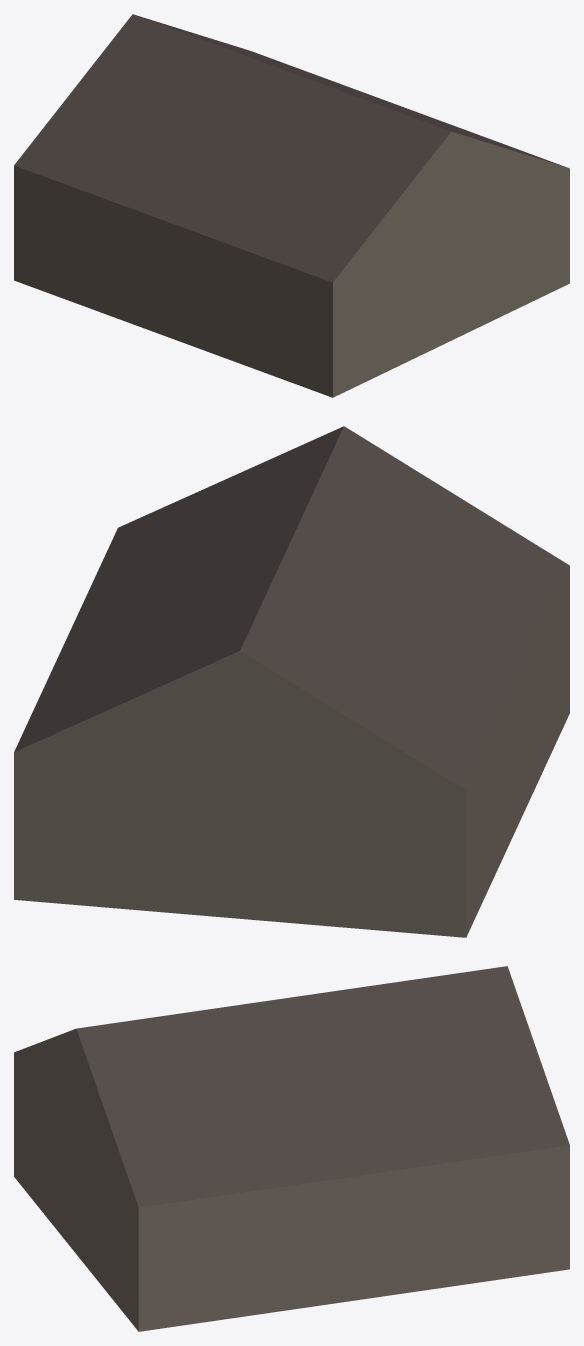
The picture shows the model from 3 angles, top to bottom: view 1: azimuth 30°, elevation 25°; view 2: azimuth 150°, elevation 25°; view 3: azimuth 270°, elevation 25°; orthographic projection. The views are drawn at different scales.
Visible parts, largest first — view 1: HP-w859457319; view 2: HP-w859457319; view 3: HP-w859457319.
Part boxes in pixels (left/top/right/bottom): HP-w859457319: left=14, top=14, right=569, bottom=397; HP-w859457319: left=14, top=426, right=569, bottom=937; HP-w859457319: left=14, top=966, right=569, bottom=1331.
Size of the model in its own units: 22.58 by 10.91 by 24.36.
